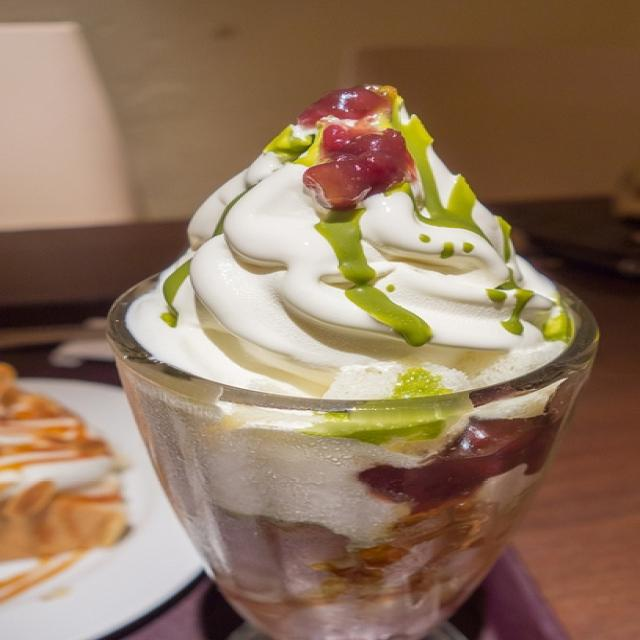蛋糕甜品: (82, 69, 600, 623)
